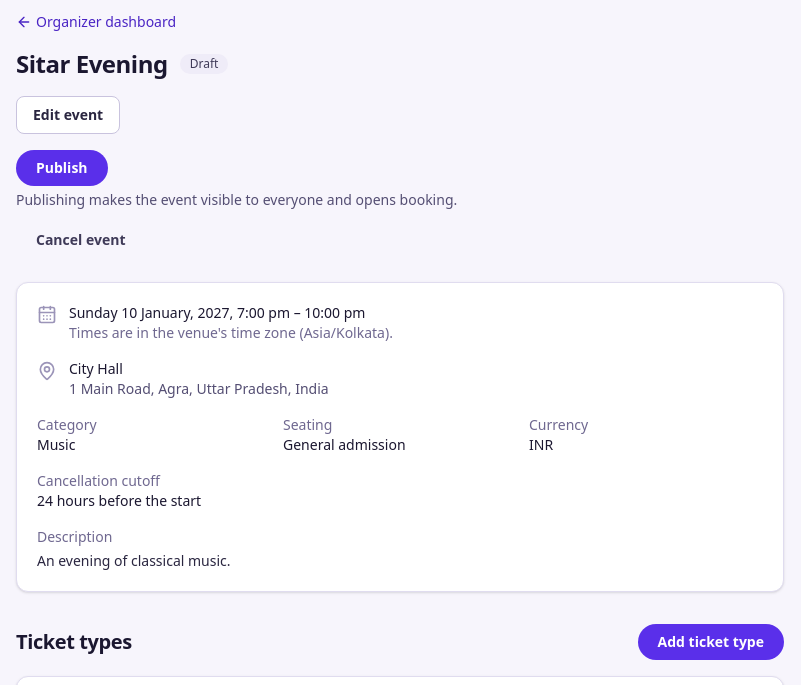
Test: OrganizerEventPage › publishing and cancelling › publishes a draft and shows the new status and the public page link at once
Step 1. Click the button "Publish" → (62, 168), box [16,150,108,186]
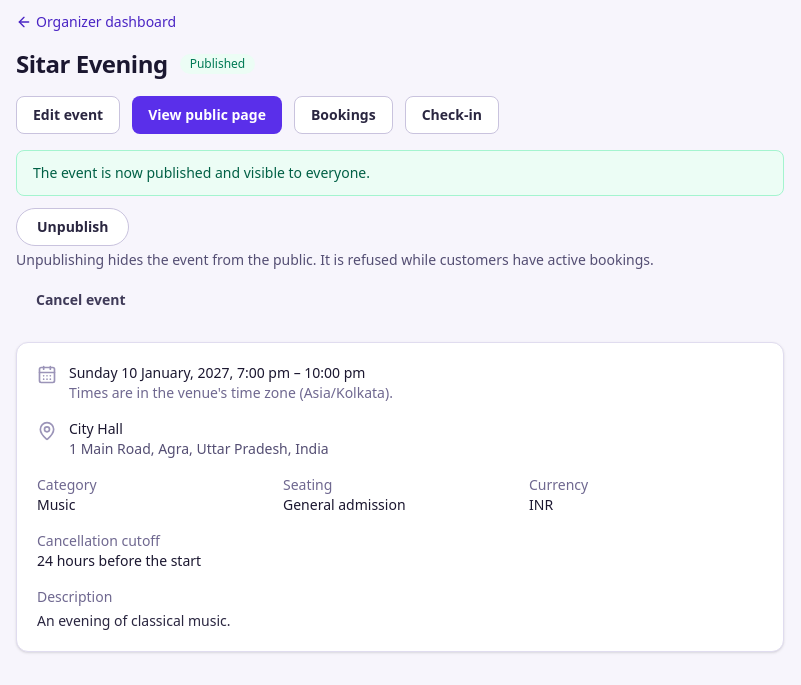
expect the text "Published" is shown: met, box [180,54,255,74]
expect the button "Unpublish" is shown: met, box [16,208,129,246]
